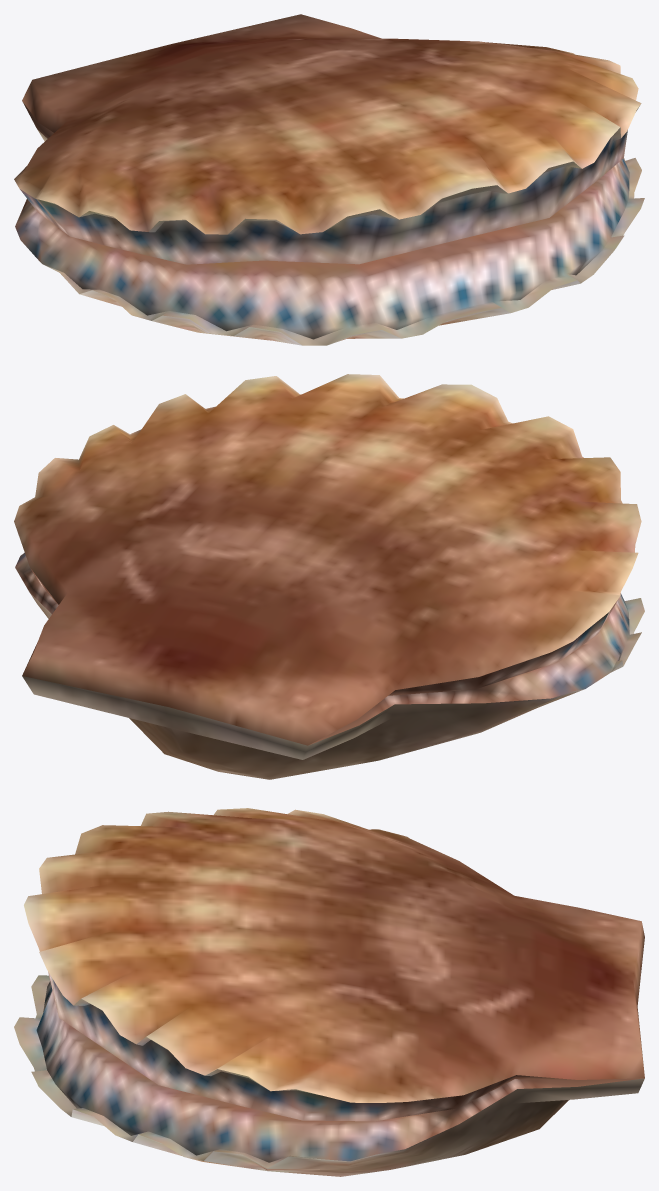
File: shell-scallop.glb
3 renders of one model, top to bottom at view 1: azimuth 30°, elevation 25°; view 2: azimuth 150°, elevation 25°; view 3: azimuth 270°, elevation 25°, orthographic.
Visible parts, largest first — view 1: DiveFishHotate_node5; view 2: DiveFishHotate_node5; view 3: DiveFishHotate_node5.
Boxes of the visible parts, x1=… form: DiveFishHotate_node5: x1=14, y1=14, x2=644, y2=345; DiveFishHotate_node5: x1=14, y1=374, x2=644, y2=779; DiveFishHotate_node5: x1=14, y1=808, x2=644, y2=1176.
Size of the model in its own units: 0.3241 by 0.124 by 0.3067.
1 material, 1 textured.
